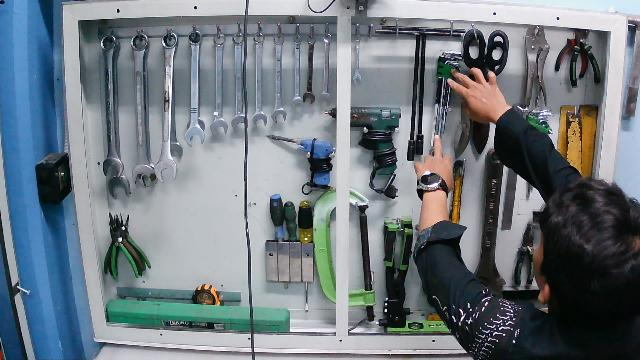kunci_l: (428, 49, 466, 165)
